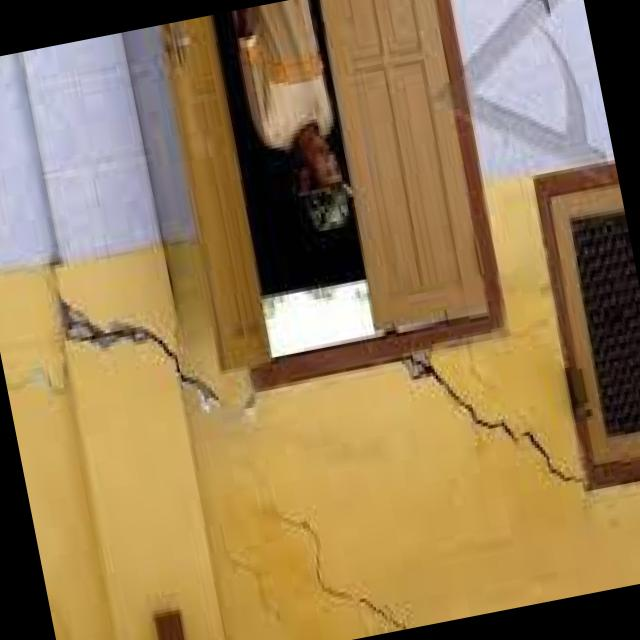crack: (404, 352, 588, 488), (60, 301, 220, 409)
